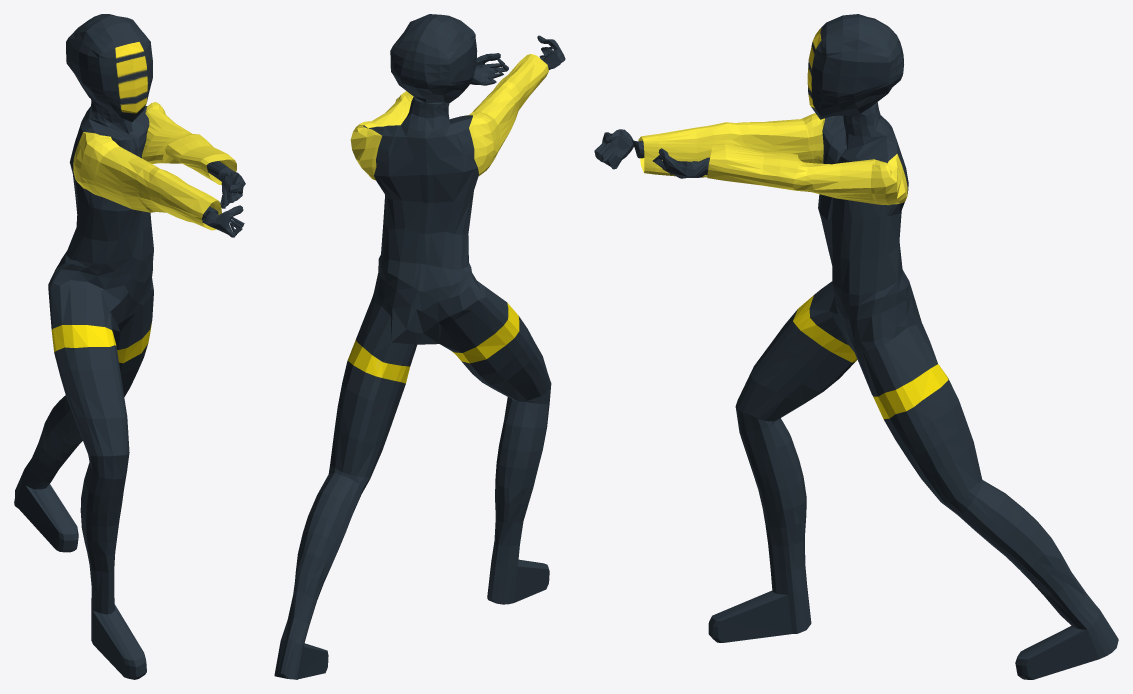
The model's file is Sentry_Attack_000020.obj.
The picture shows the model from 3 angles, left to right: view 1: azimuth 30°, elevation 25°; view 2: azimuth 150°, elevation 25°; view 3: azimuth 270°, elevation 25°; orthographic projection. The views are drawn at different scales.
Visible parts, largest first — view 1: Cube; view 2: Cube; view 3: Cube.
Part boxes in pixels (box(x1,y1,x2,y2)): Cube: box(14, 14, 245, 679); Cube: box(274, 14, 565, 679); Cube: box(594, 14, 1118, 679).
Bounding box in the file's own units: 0.9056 × 3.76 × 2.78.
